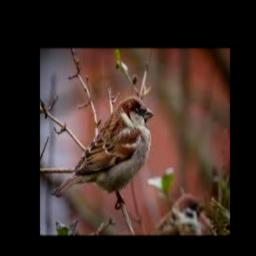Sparrow: (51, 96, 154, 208)
